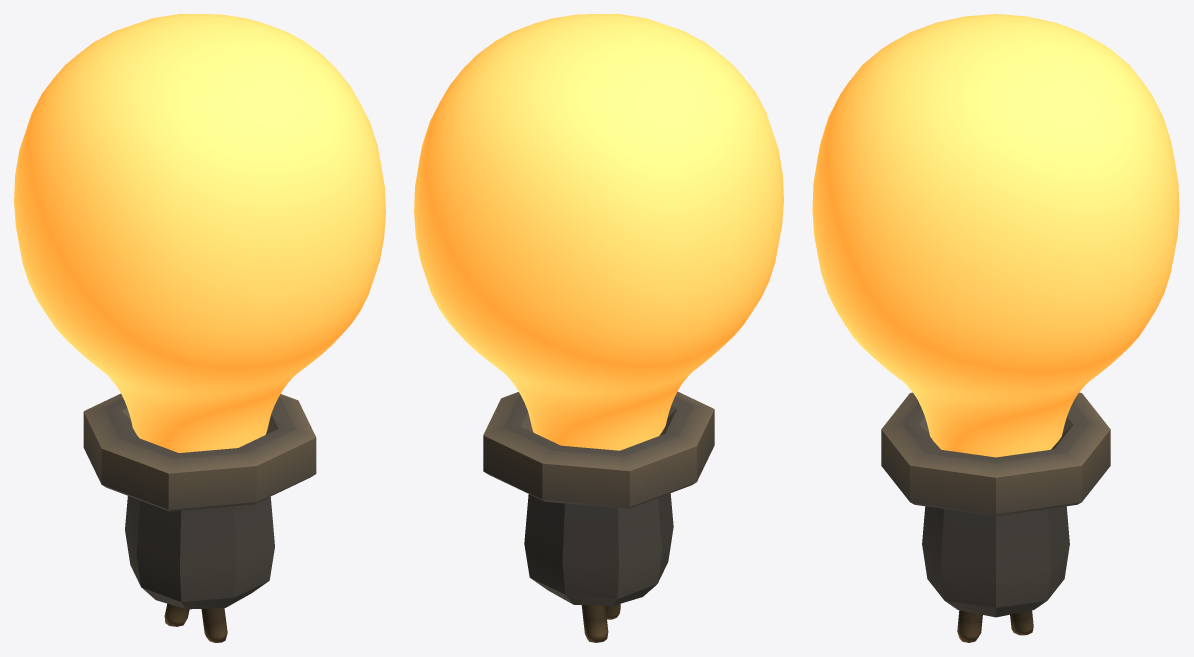
The model's file is msh_item_bulb.FBX.
3 renders of one model, left to right at view 1: azimuth 30°, elevation 25°; view 2: azimuth 150°, elevation 25°; view 3: azimuth 270°, elevation 25°, orthographic.
Visible parts, largest first — view 1: msh_item_BulbGlass, msh_item_Bulb; view 2: msh_item_BulbGlass, msh_item_Bulb; view 3: msh_item_BulbGlass, msh_item_Bulb.
Boxes of the visible parts, bbox=[...] form: msh_item_BulbGlass: bbox=[14, 14, 385, 452]; msh_item_Bulb: bbox=[83, 393, 316, 642]; msh_item_BulbGlass: bbox=[414, 14, 783, 450]; msh_item_Bulb: bbox=[483, 391, 714, 642]; msh_item_BulbGlass: bbox=[812, 14, 1179, 457]; msh_item_Bulb: bbox=[881, 392, 1110, 642].
Bounding box in the file's own units: 120 × 120 × 217.
